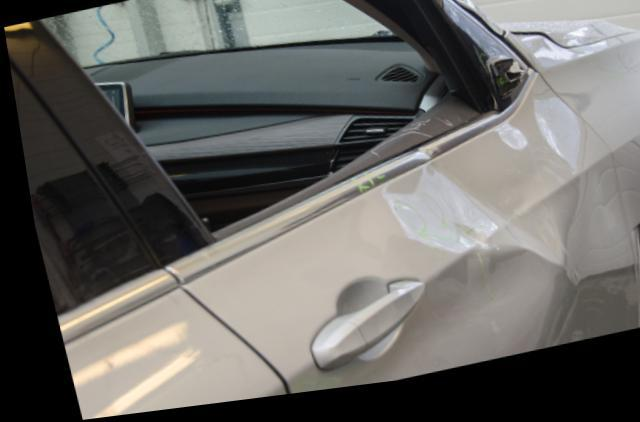dent: (374, 110, 575, 281)
